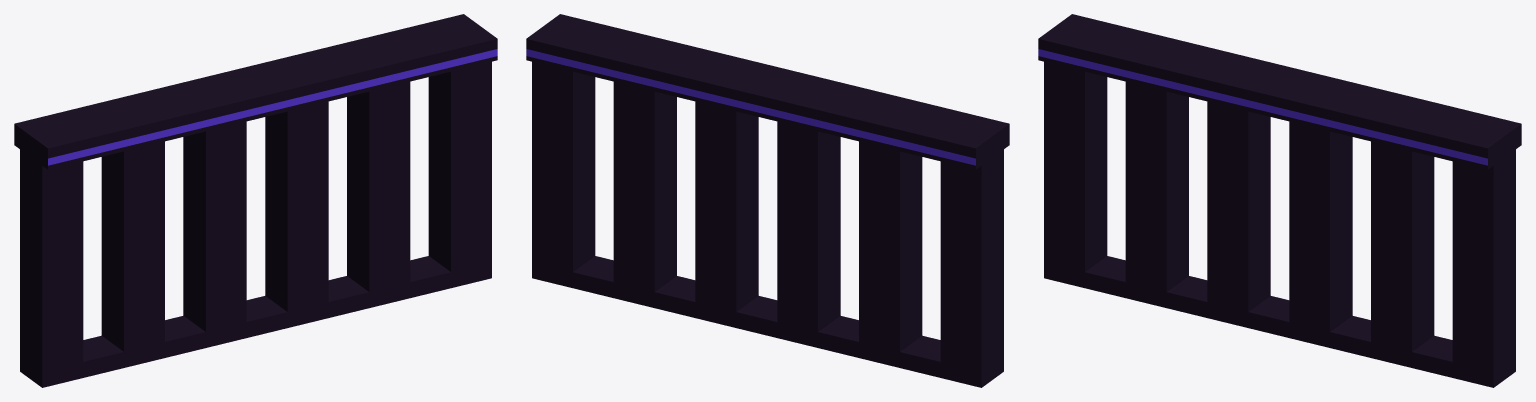
The model's file is Fader_Railing.fbx.
The picture shows the model from 3 angles, left to right: view 1: azimuth 30°, elevation 25°; view 2: azimuth 150°, elevation 25°; view 3: azimuth 330°, elevation 25°; orthographic projection.
Visible parts, largest first — view 1: Cube.015; view 2: Cube.015; view 3: Cube.015.
Boxes of the visible parts, bbox=[...] form: Cube.015: bbox=[14, 14, 497, 387]; Cube.015: bbox=[526, 14, 1009, 387]; Cube.015: bbox=[1038, 14, 1521, 387].
Bounding box in the file's own units: 123 × 63.61 × 16.05.
